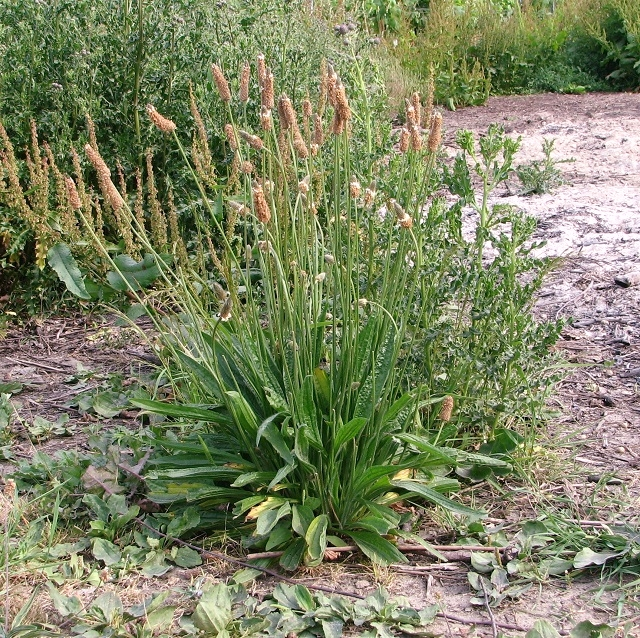buckhorn plantain: (58, 64, 493, 578)
